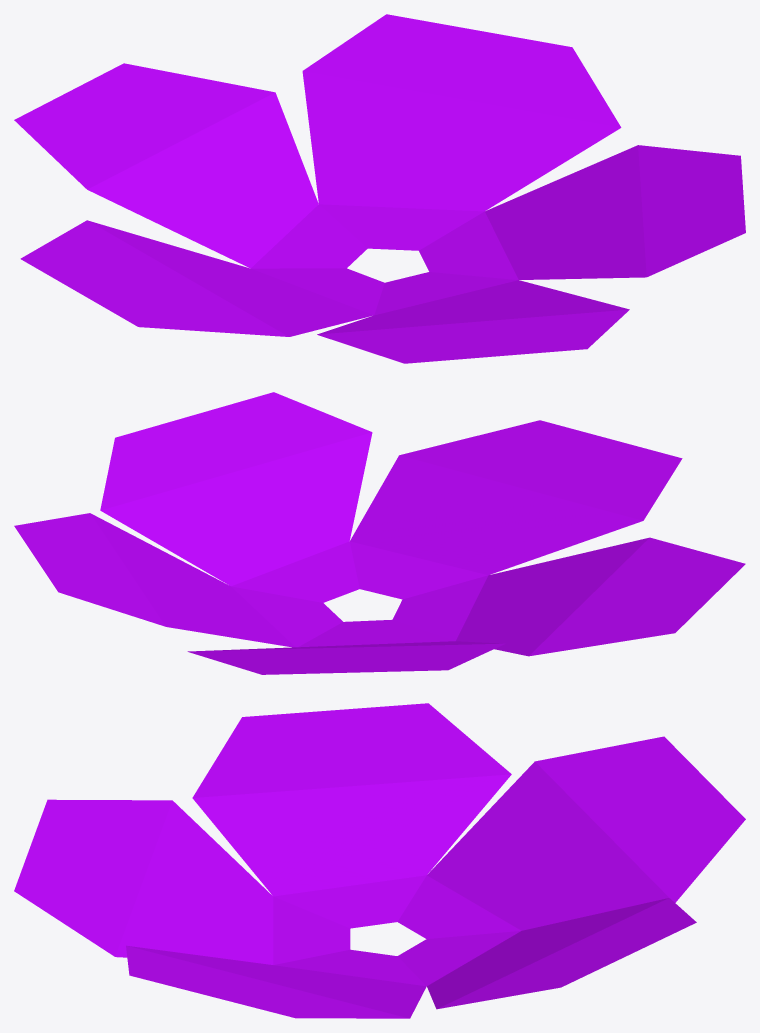
Rendered from MorningGlory.fbx.
3 renders of one model, top to bottom at view 1: azimuth 30°, elevation 25°; view 2: azimuth 150°, elevation 25°; view 3: azimuth 270°, elevation 25°, orthographic. The views are drawn at different scales.
Parts seen in each view (by area): view 1: Morning Glory; view 2: Morning Glory; view 3: Morning Glory.
Boxes of the visible parts, x1,y1,x2,y2 form: Morning Glory: [14, 14, 745, 363]; Morning Glory: [14, 392, 745, 674]; Morning Glory: [14, 703, 745, 1018].
Bounding box in the file's own units: 25 × 3.5 × 25.
